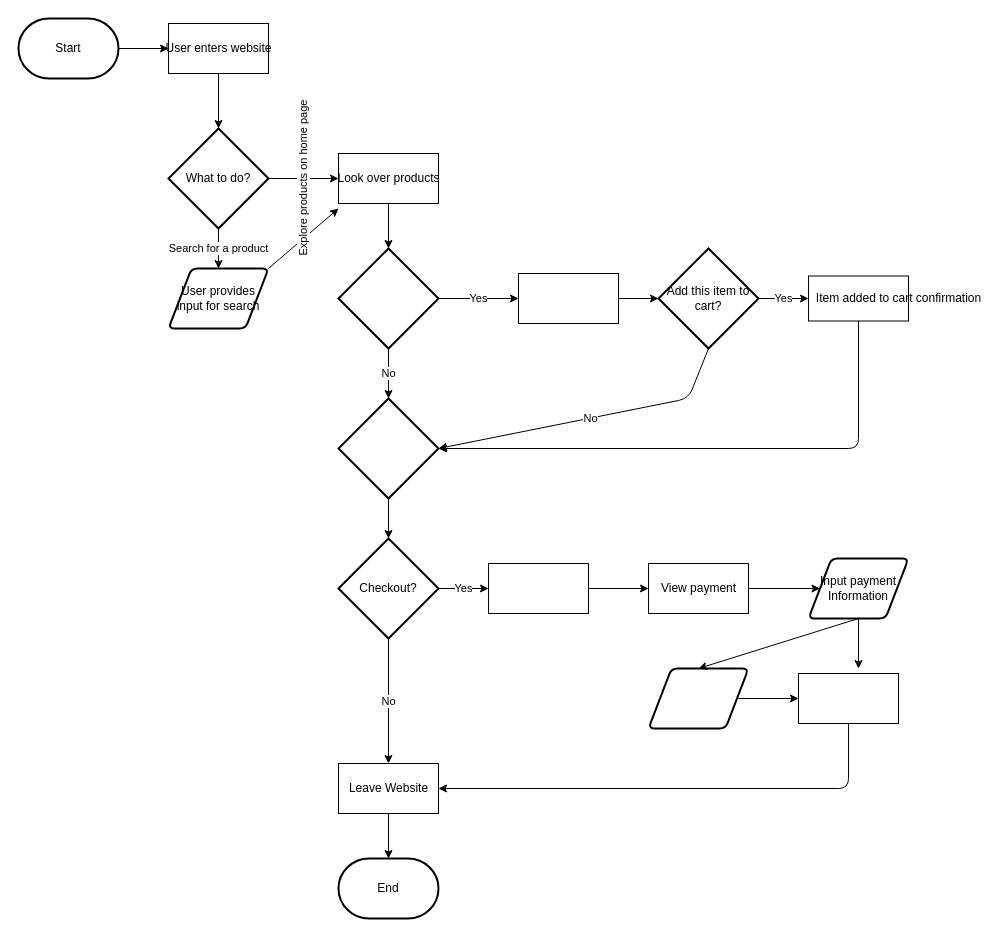
The diagram is 998 pixels wide and 936 high, and some of its shapes have lost their labels. Each missing label, with the centre of its shape:
"Continue shopping?" belongs at point 388,448.
"Order Confirmation Screen" belongs at point 848,698.
"Product's Webpage Opens" belongs at point 568,298.
"Receive email" belongs at point 698,698.
"View a specific product?" belongs at point 388,298.
"View cart" belongs at point 538,588.
